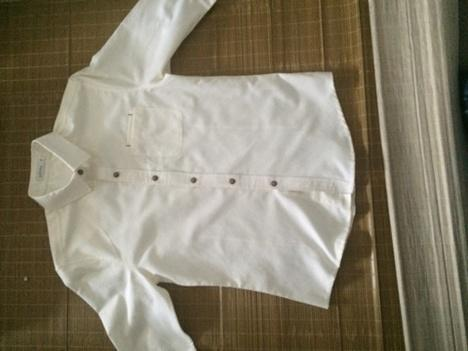C_shirt: (28, 1, 356, 351)
